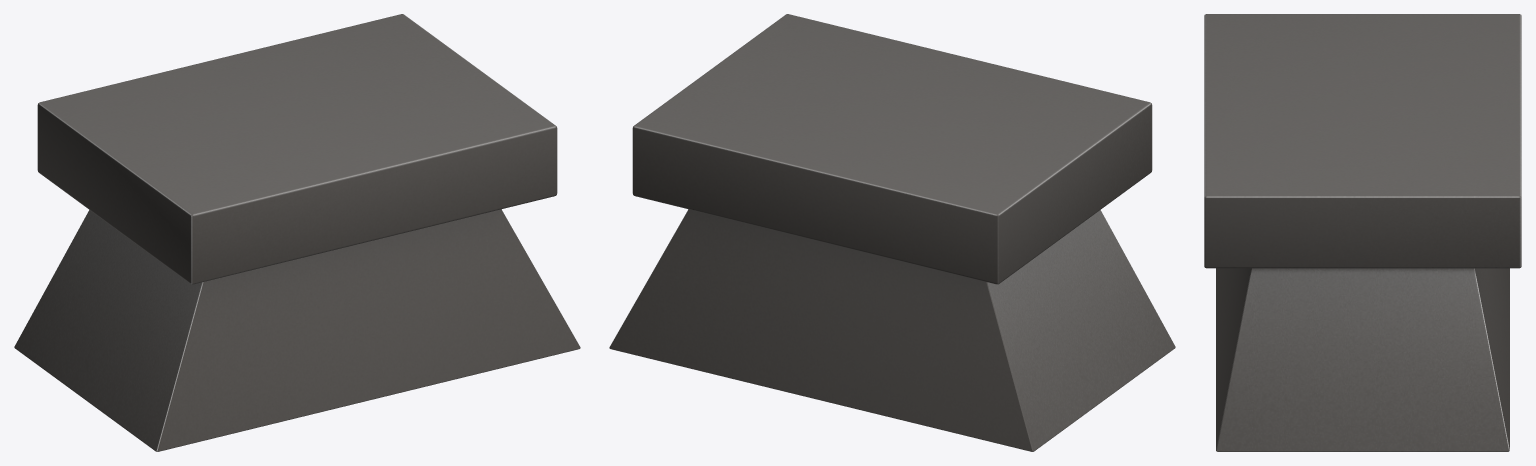
Rendered from raw_model.obj.
3 renders of one model, left to right at view 1: azimuth 30°, elevation 25°; view 2: azimuth 150°, elevation 25°; view 3: azimuth 270°, elevation 25°, orthographic. The views are drawn at different scales.
Visible parts, largest first — view 1: solid; view 2: solid; view 3: solid.
Boxes of the visible parts, left/top/right/bottom form: solid: left=14, top=14, right=580, bottom=451; solid: left=609, top=14, right=1175, bottom=451; solid: left=1204, top=14, right=1521, bottom=451.
Bounding box in the file's own units: 0.6719 × 0.3545 × 0.4236.
Materials: 1 (1 with a texture image).
